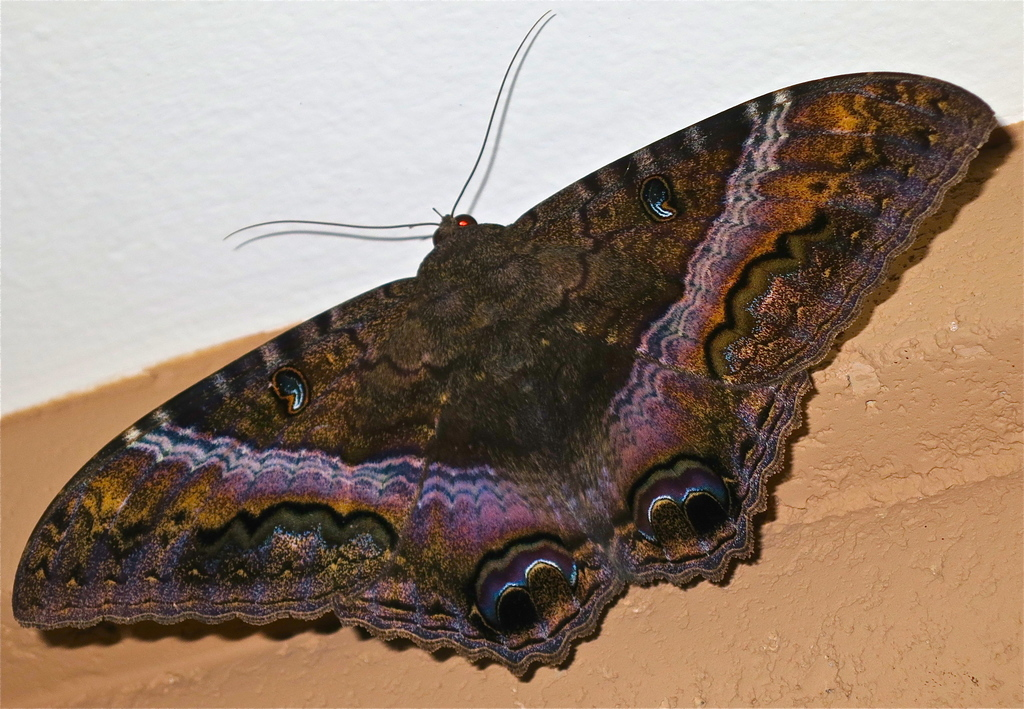Butterfly: (35, 56, 1004, 692)
